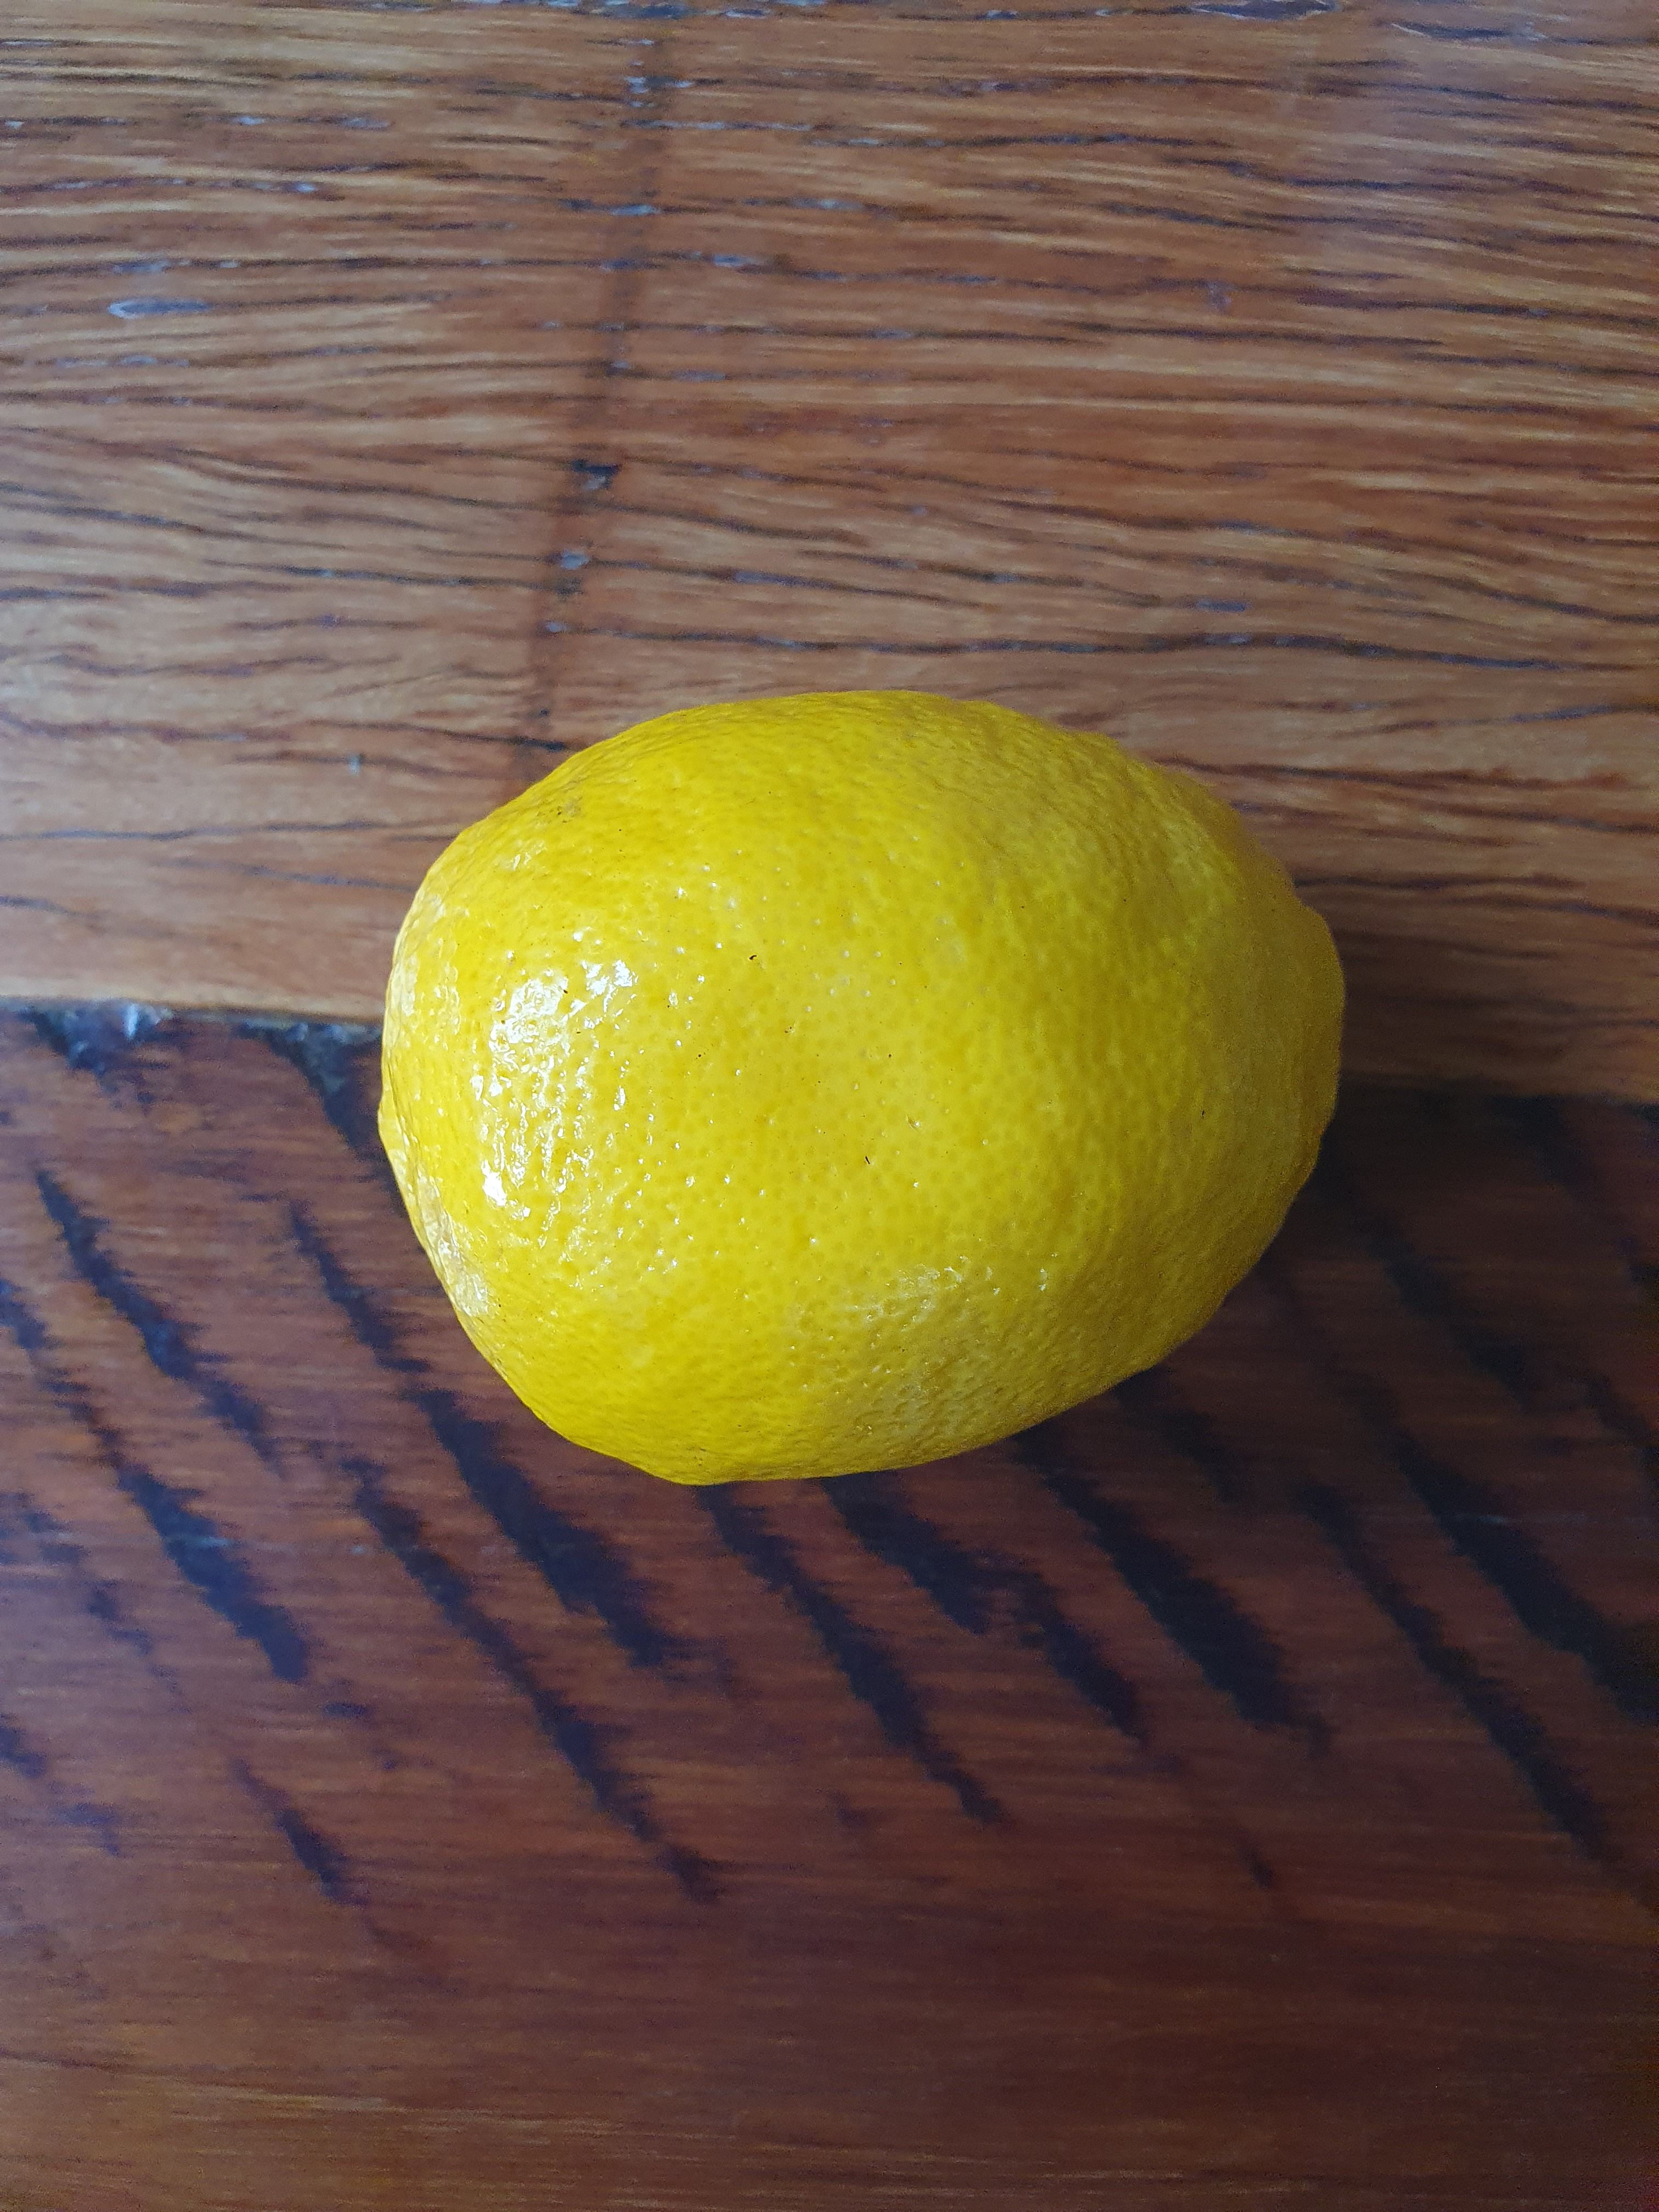lemon: (335, 639, 1373, 1503)
